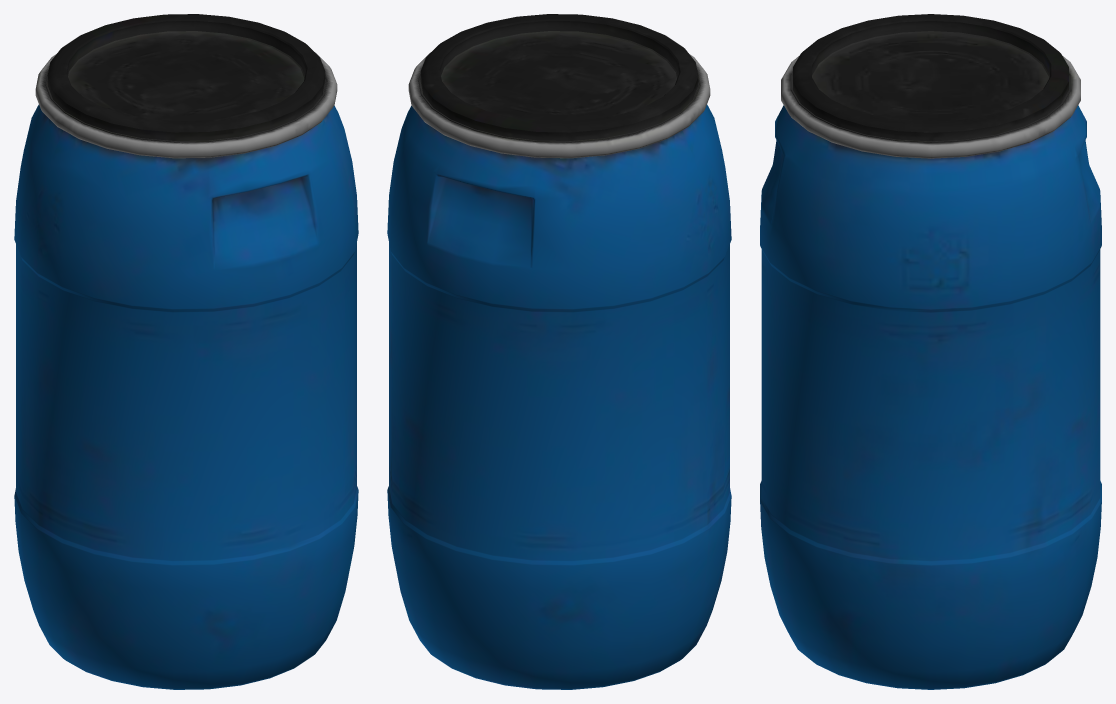
The model's file is barrel.glb.
3 views of the same model, side by side, from view 1: azimuth 30°, elevation 25°; view 2: azimuth 150°, elevation 25°; view 3: azimuth 270°, elevation 25° (orthographic).
Parts seen in each view (by area): view 1: Barrel_02; view 2: Barrel_02; view 3: Barrel_02.
Part boxes in pixels (bbox=[...]): Barrel_02: bbox=[14, 14, 358, 689]; Barrel_02: bbox=[387, 14, 731, 689]; Barrel_02: bbox=[760, 14, 1101, 689].
Bounding box in the file's own units: 0.4882 × 0.88 × 0.4846.
Materials: 1 (1 with a texture image).
